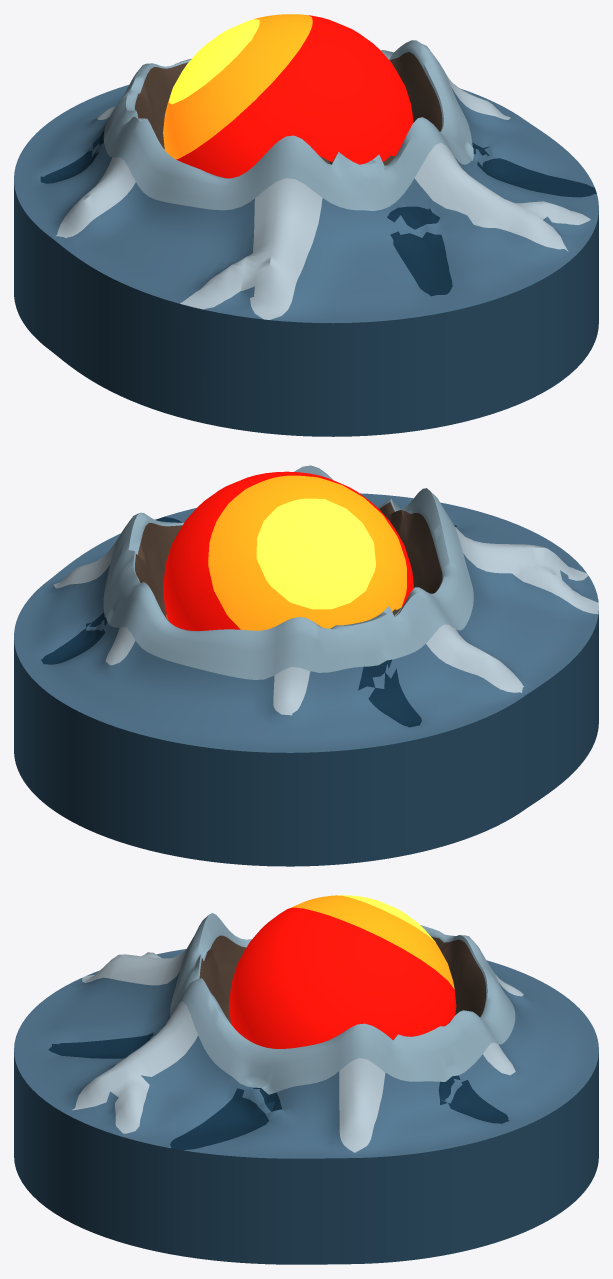
The model's file is ice_vent.glb.
3 views of the same model, one above another, from view 1: azimuth 30°, elevation 25°; view 2: azimuth 150°, elevation 25°; view 3: azimuth 270°, elevation 25° (orthographic). The views are drawn at different scales.
Visible parts, largest first — view 1: ice, orb; view 2: ice, orb; view 3: ice, orb.
Part boxes in pixels (x1,y1,x2,y2): ice: (14,40,598,436); orb: (163,14,413,178); ice: (14,465,598,866); orb: (163,471,413,630); ice: (14,913,598,1264); orb: (229,895,456,1048).
Size of the model in its own units: 18.49 by 9.86 by 21.
